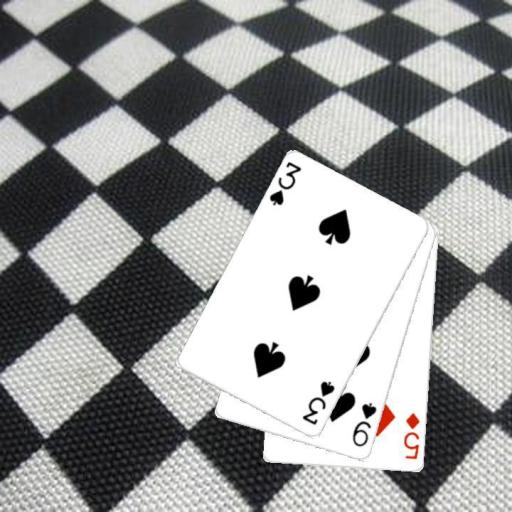3S: (300, 379, 337, 428), (266, 159, 303, 208)
5D: (400, 410, 422, 461)
9S: (349, 400, 378, 449)
